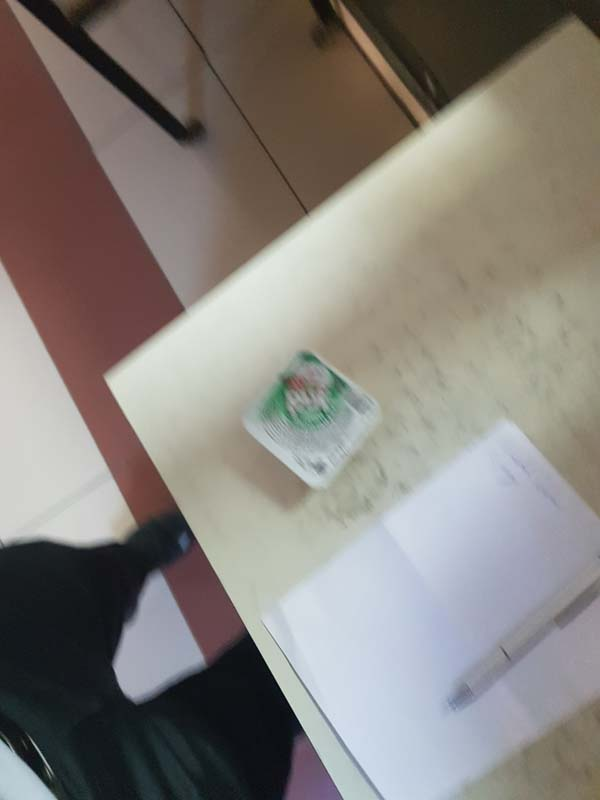etipuf: (234, 338, 390, 499)
